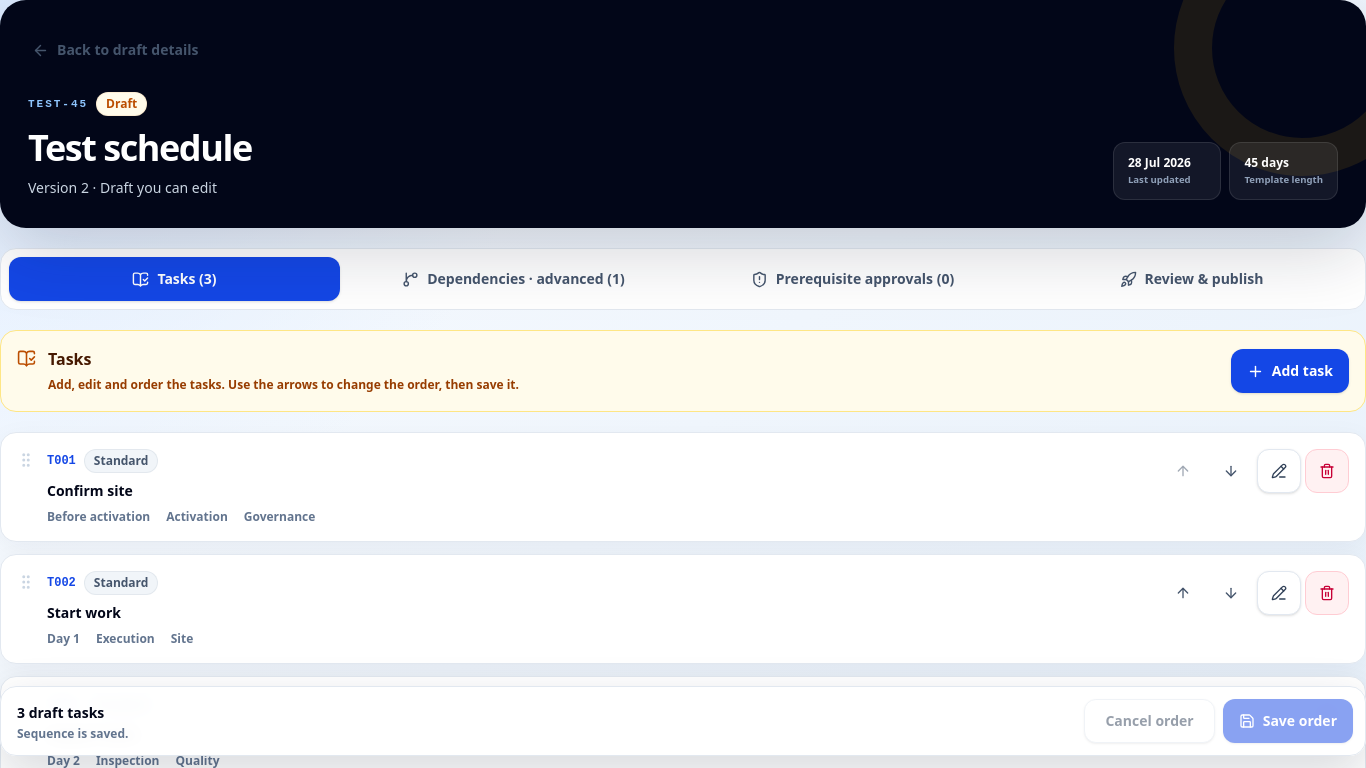
Test: draft dependency authoring › renders backend template_dependency_cycle errors in plain words without repair
This screenshot has width=1366, height=768.
Check: the element with test id "draft-task-T001" is shown, box [0,432,1365,542]
Click the button "Dependencies · advanced (1)" at x=514, y=279, box [348,257,679,301]
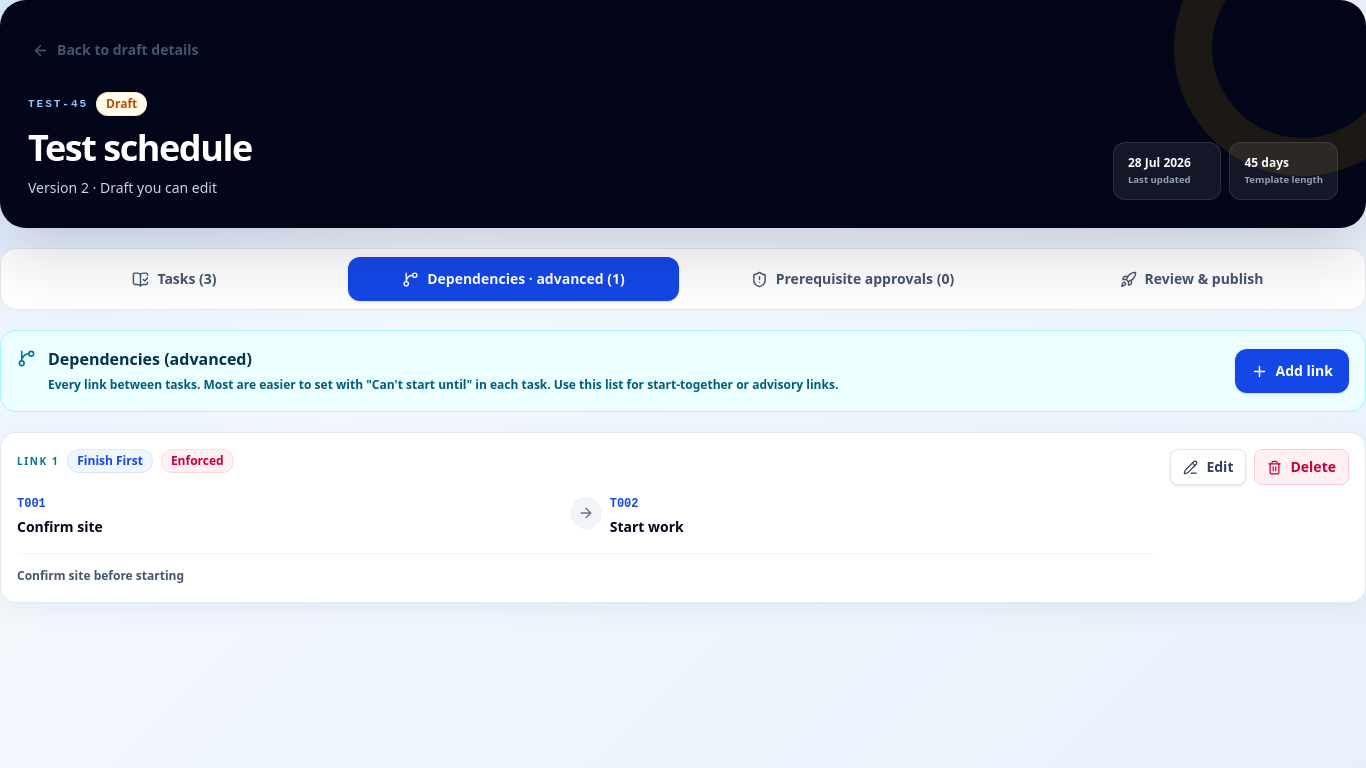
Click the button "Add link" at x=1292, y=371, box [1234,349,1349,393]
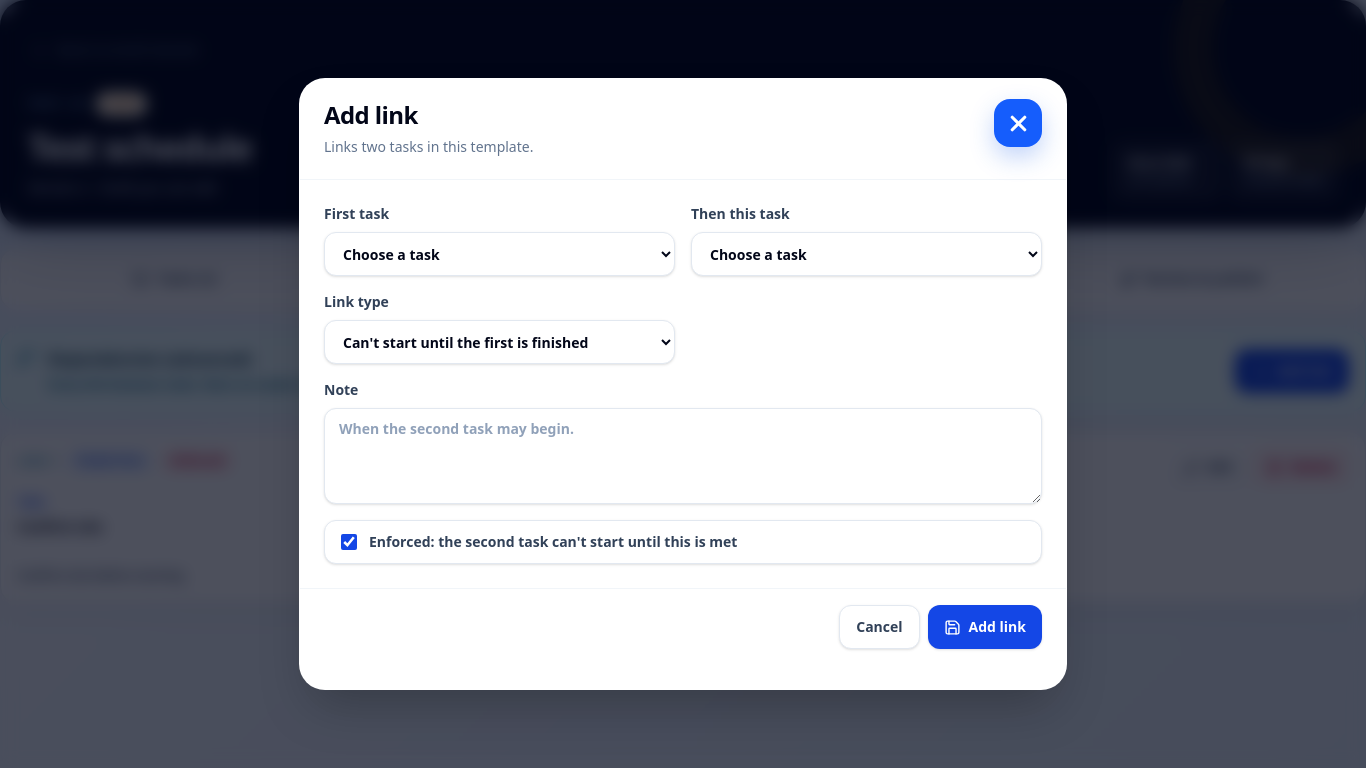
Select "T002 — Start work" in the dropdown labelled "First task" at x=500, y=254, box [324,232,675,276]
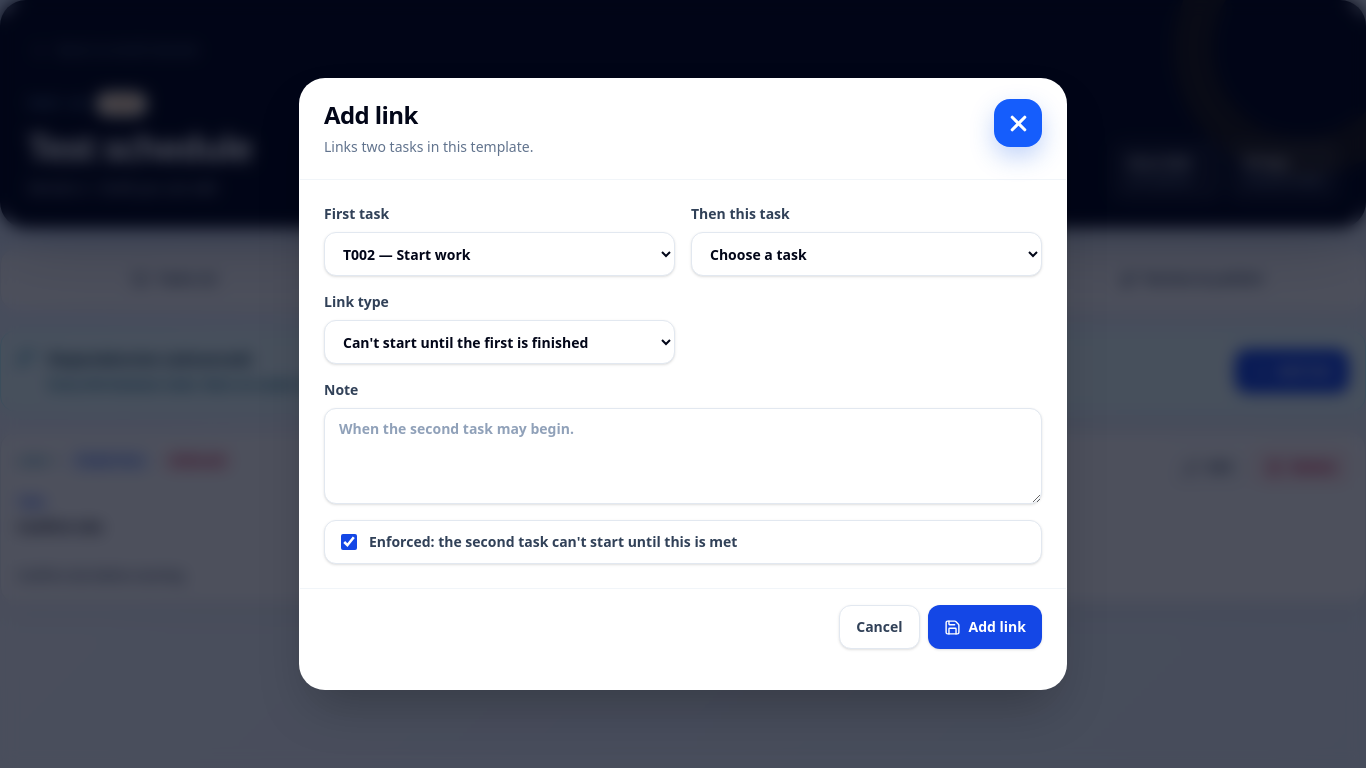
Select "T003 — Inspect work" in the dropdown labelled "Then this task" at x=866, y=254, box [691,232,1042,276]
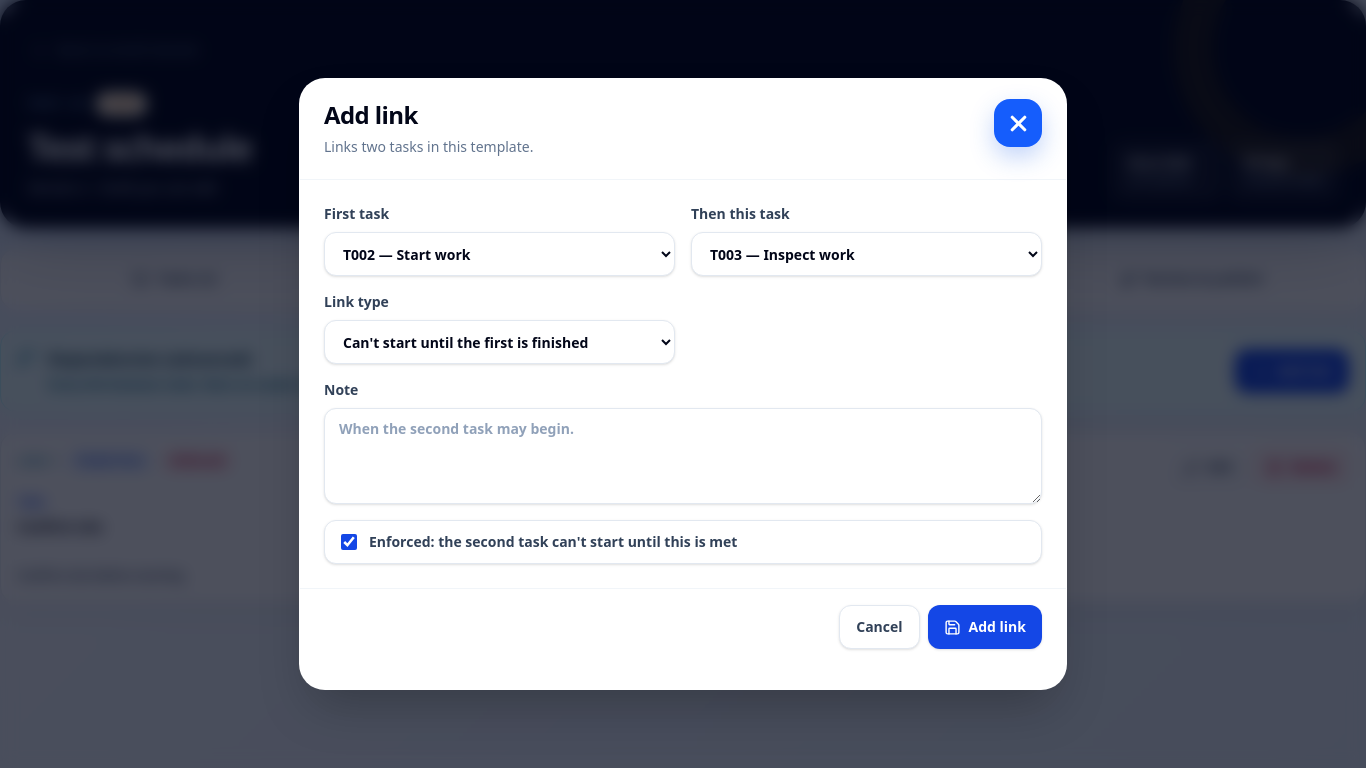
Type "Test relationship" into the text box labelled "Note" at x=683, y=456, box [324,408,1042,504]
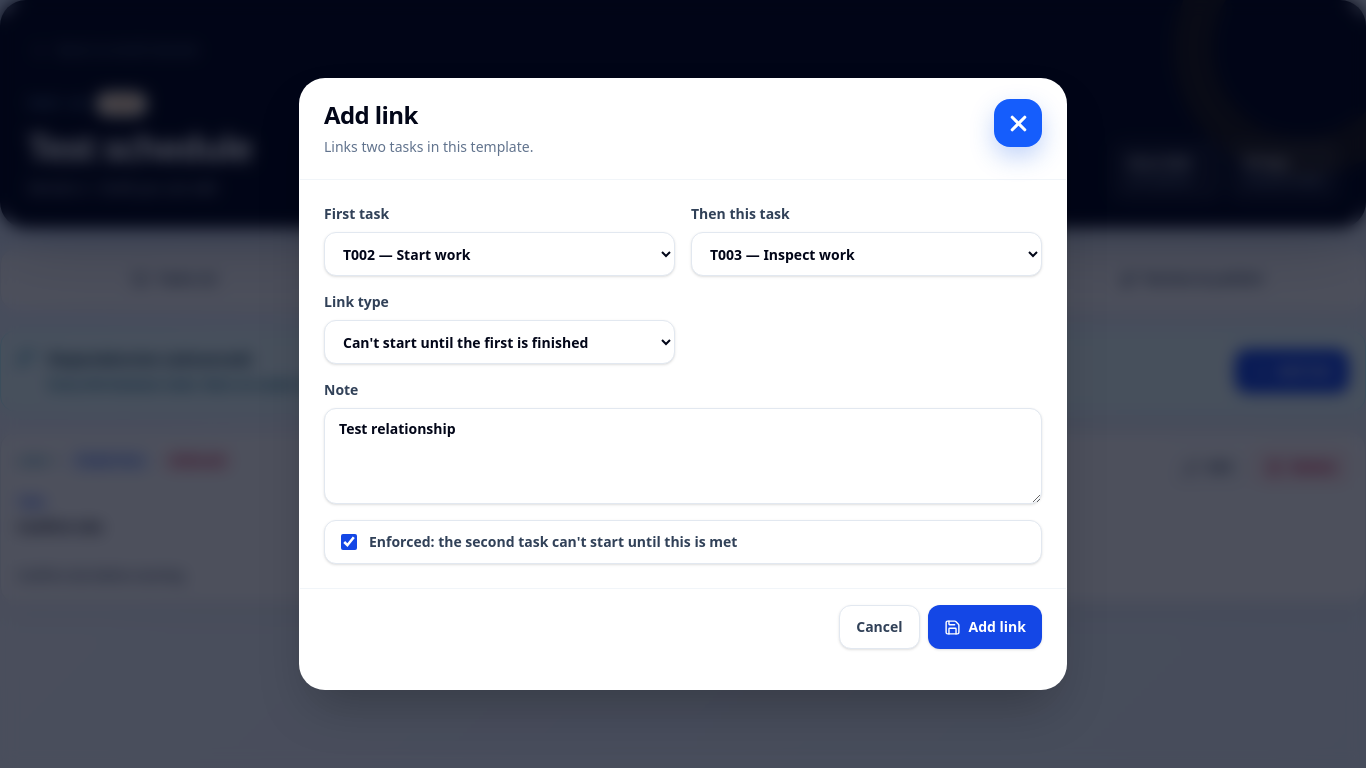
Click the button "Add link" at x=985, y=627, box [928,605,1042,649]
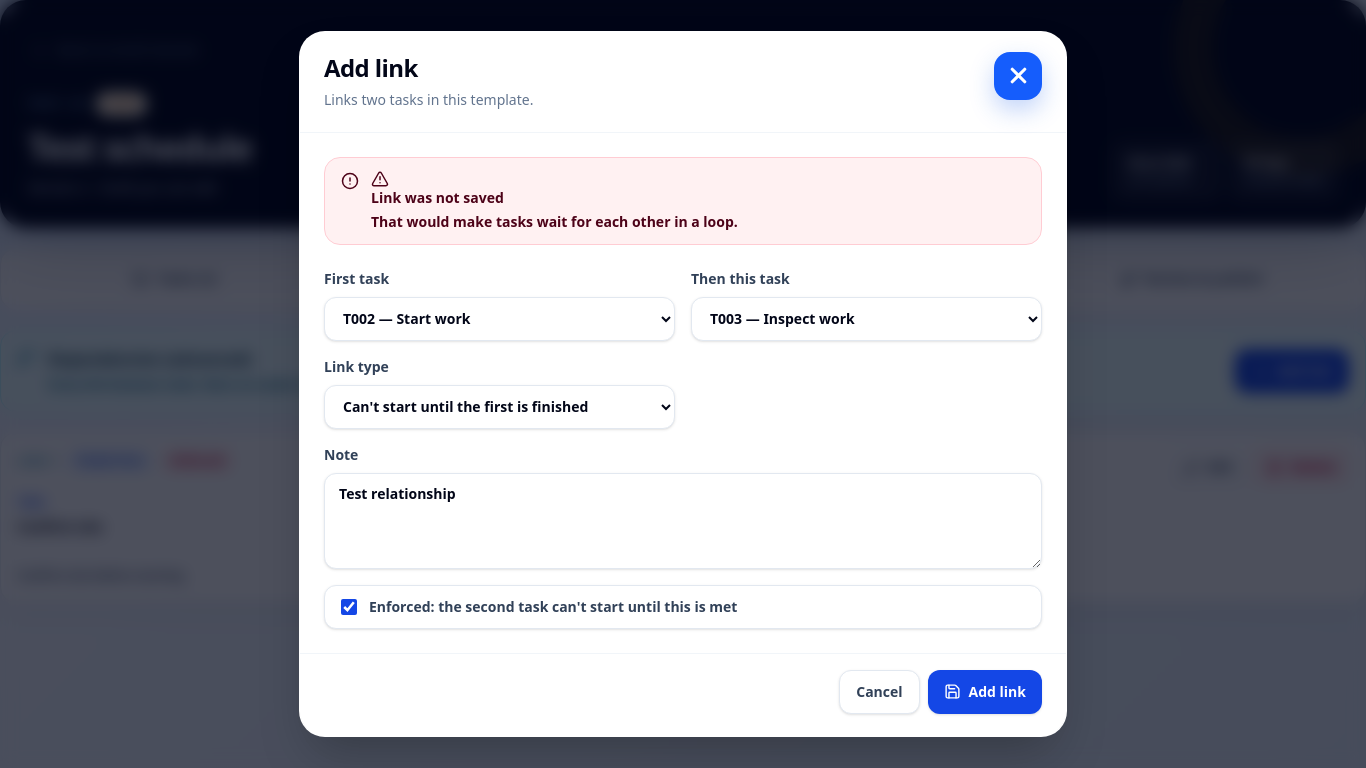
Check: the text "That would make tasks wait for each other in a loop." is shown, box [371,212,738,231]
